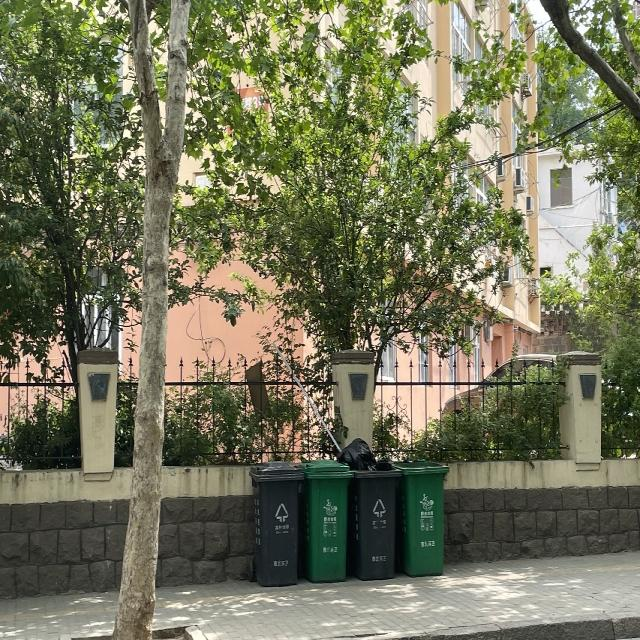garbage_bin: (246, 459, 302, 584), (302, 458, 354, 583), (394, 458, 449, 575)
overflow: (337, 436, 401, 580)
